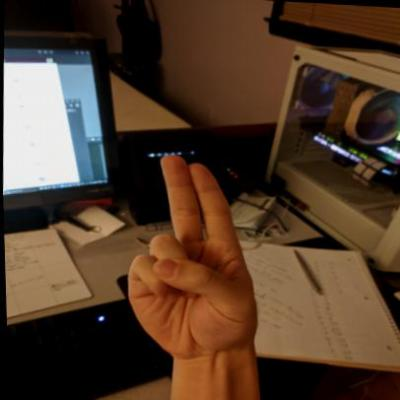hand: (116, 150, 266, 364)
